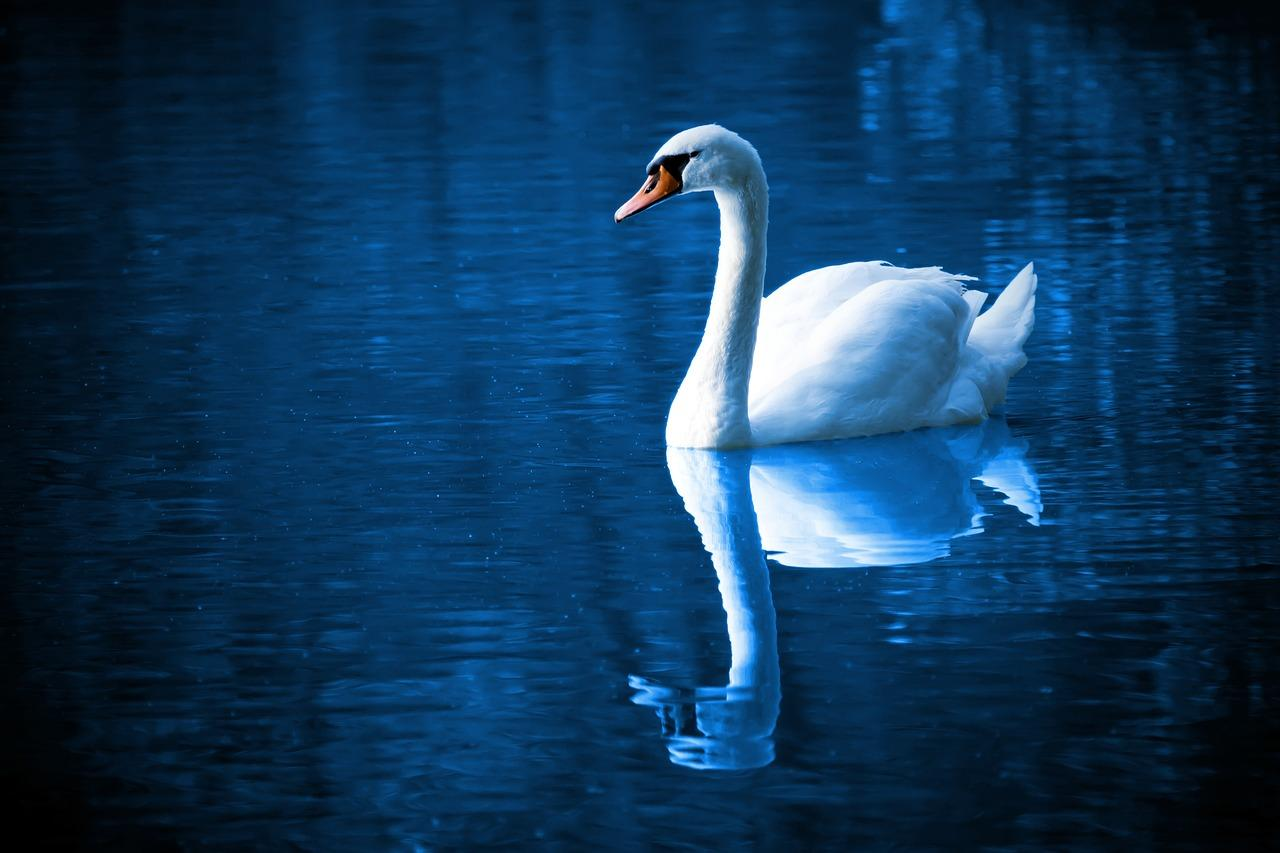bird: (615, 125, 1037, 450)
